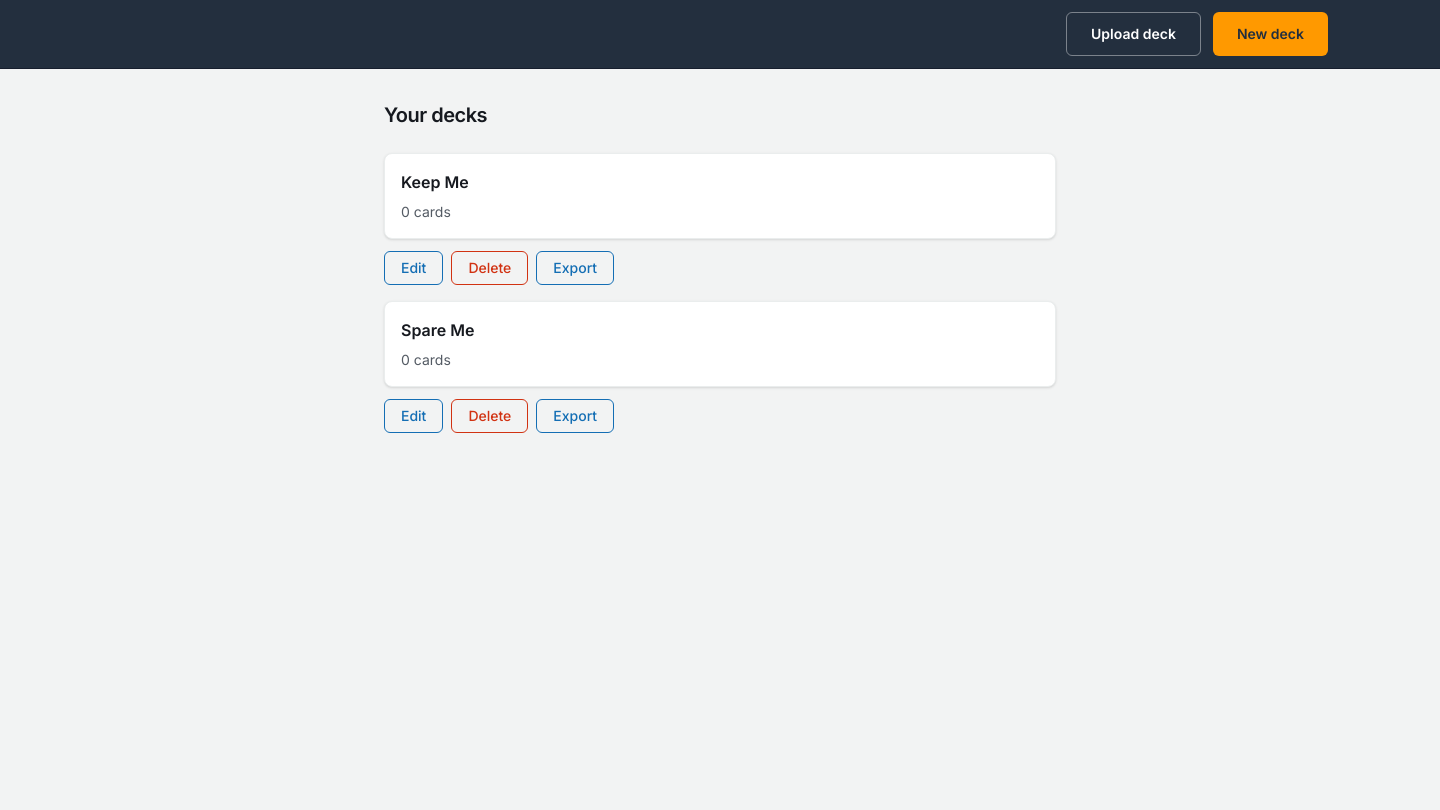
Dashboard wiring — cancelling delete leaves the listing unchanged (3.7) › keeps the deck in the listing when the delete confirmation is cancelled
Expected: the heading "Spare Me" is shown, [401,320,474,340]
Click the button with aria-label "delete spare me" at [490, 416], box [451,399,528,433]
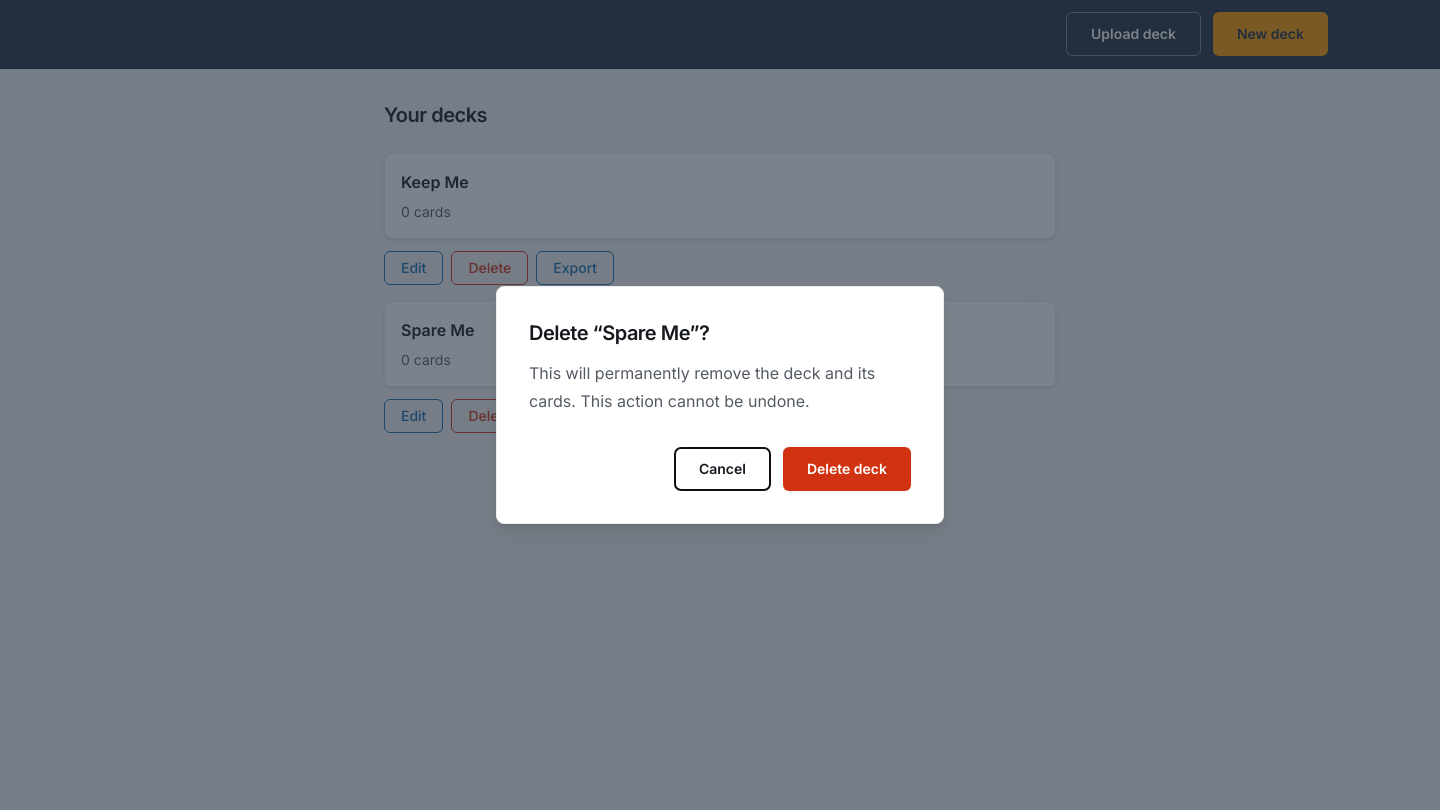
Click the button "Cancel" at [722, 469], box [674,447,771,491]
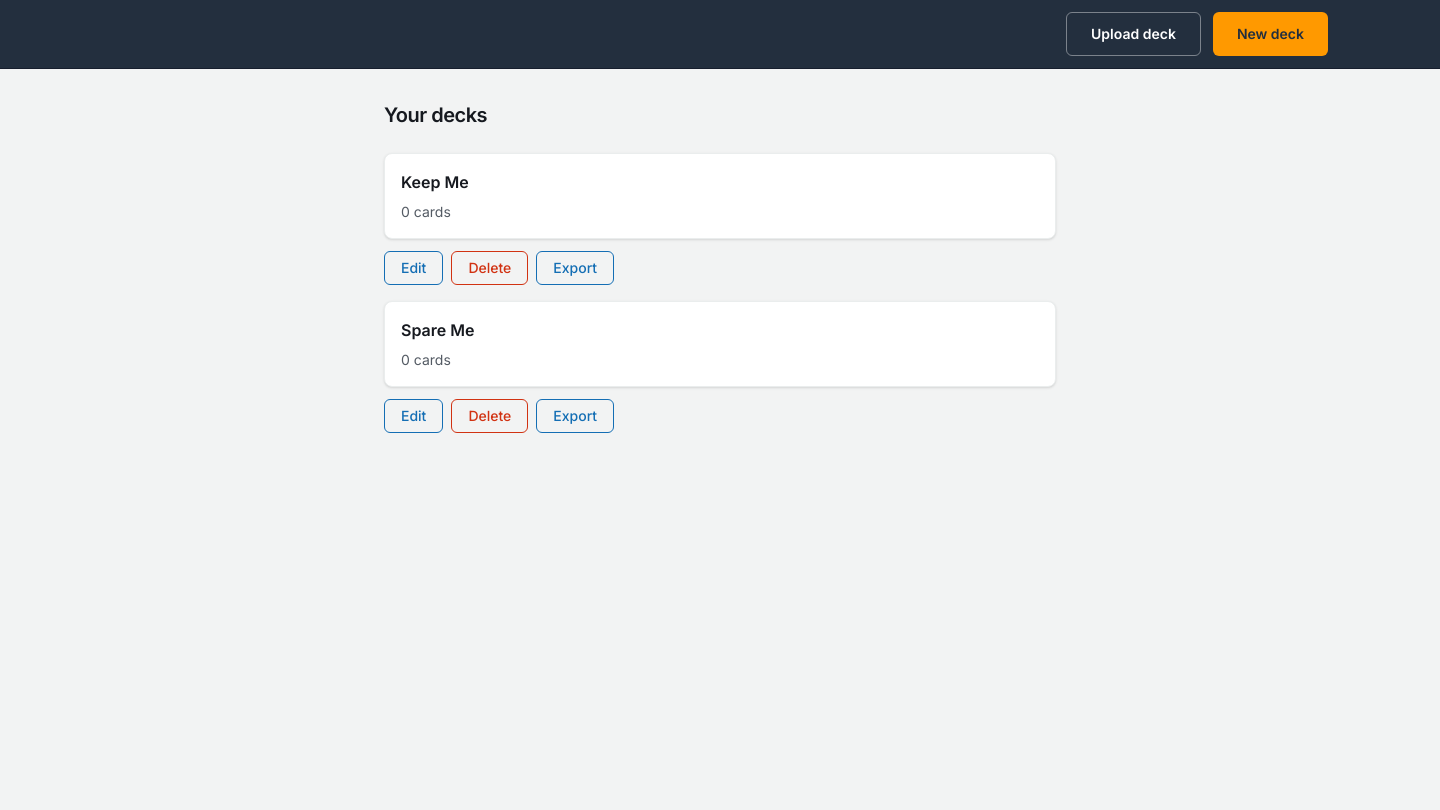
Expected: the heading "Spare Me" is shown, [401,320,474,340]
Expected: the dialog is gone
